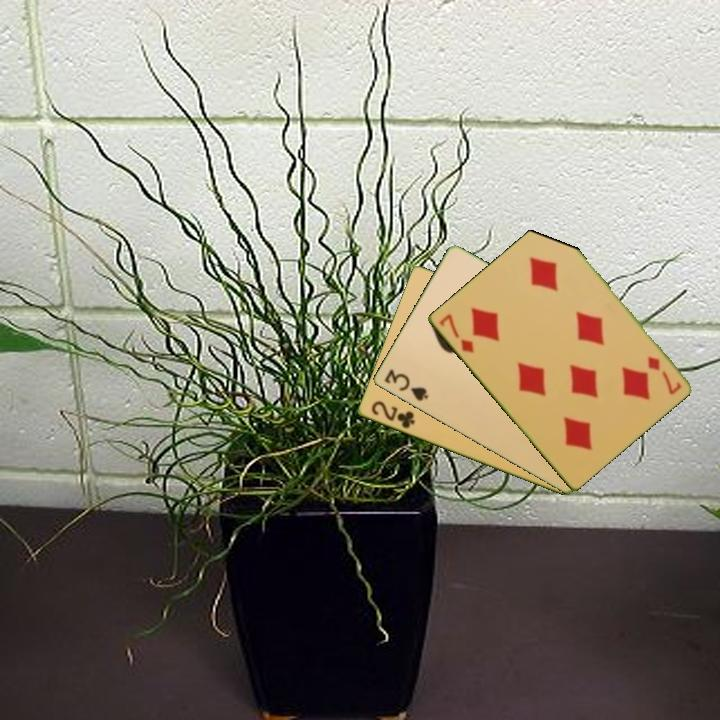2c: (367, 397, 417, 432)
3s: (380, 366, 431, 404)
7d: (435, 310, 477, 356), (643, 353, 684, 397)
